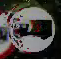Heavy Vehicles: (6, 3, 55, 55)
